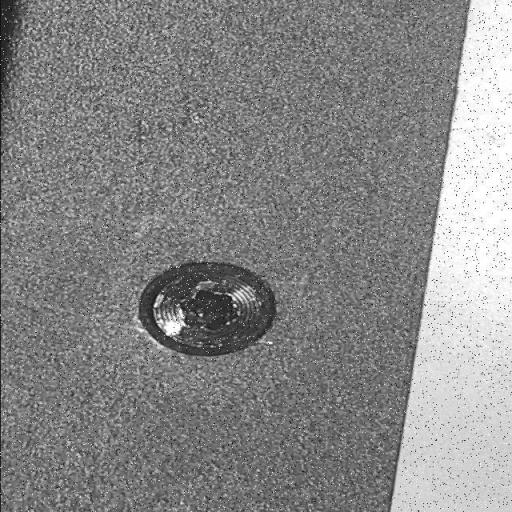Torx: (140, 252, 273, 366)
